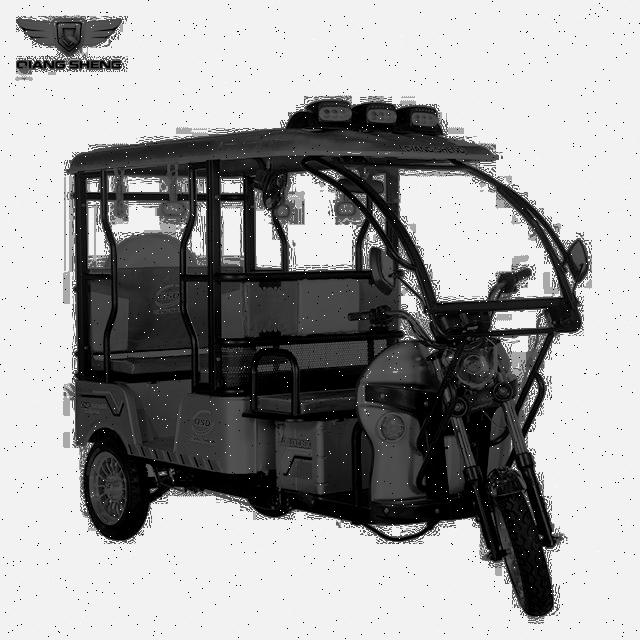Toto: (43, 125, 588, 615)
